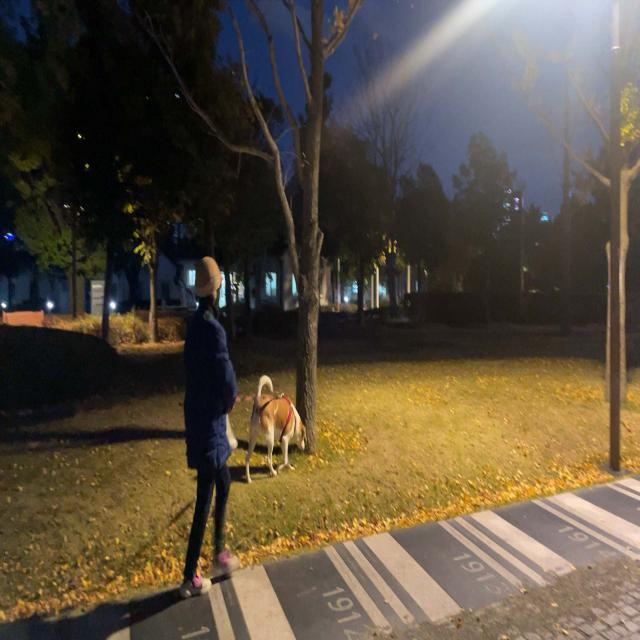Leashed_Dog: (204, 374, 308, 483)
